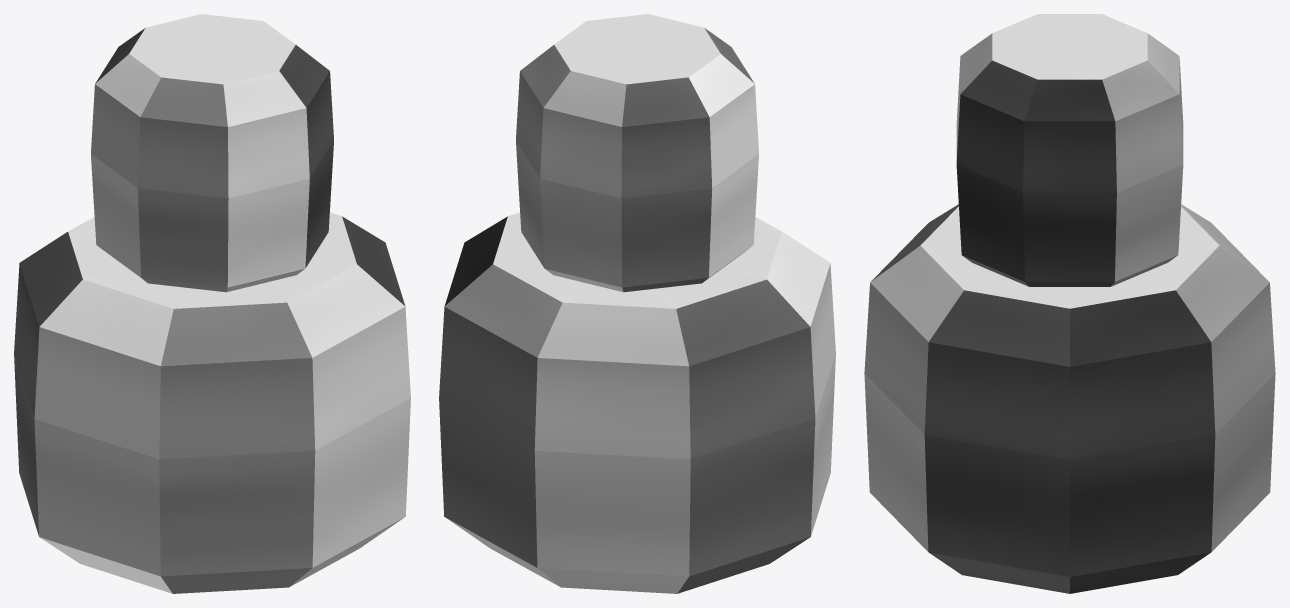
File: structural.obj
3 views of the same model, side by side, from view 1: azimuth 30°, elevation 25°; view 2: azimuth 150°, elevation 25°; view 3: azimuth 270°, elevation 25° (orthographic).
Size of the model in its own units: 0.1969 by 0.255 by 0.1969.
1 material, 1 textured.
